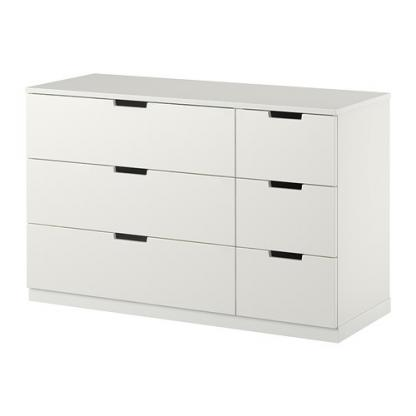Cabinet: (22, 66, 395, 350)
